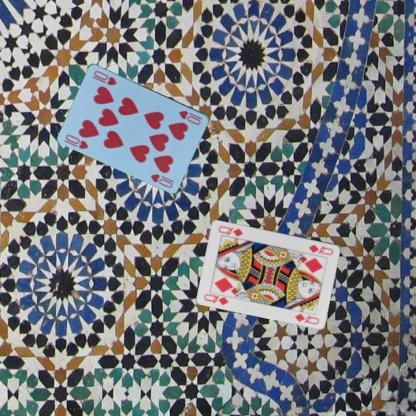10h: (176, 108, 204, 126), (63, 132, 90, 150)
Qd: (202, 290, 232, 306), (306, 241, 335, 256)
